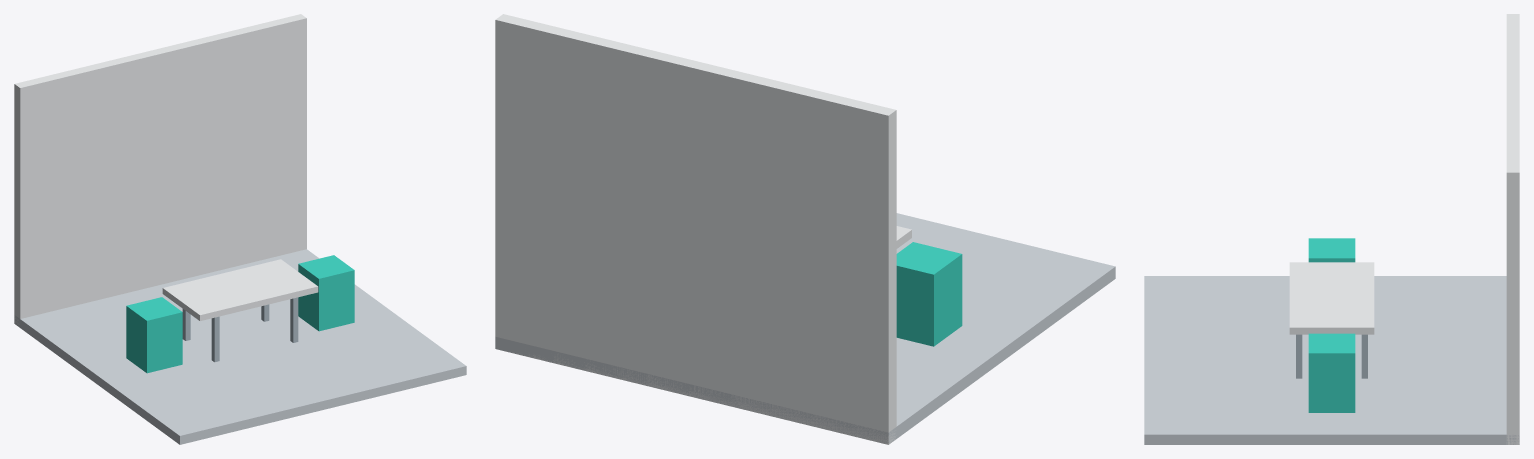
The picture shows the model from 3 angles, left to right: view 1: azimuth 30°, elevation 25°; view 2: azimuth 150°, elevation 25°; view 3: azimuth 270°, elevation 25°; orthographic projection. The views are drawn at different scales.
Visible parts, largest first — view 1: Exhibition Booth Concept; view 2: Exhibition Booth Concept; view 3: Exhibition Booth Concept.
Boxes of the visible parts, box(x1,y1,x2,y2) form: Exhibition Booth Concept: box(14, 14, 466, 444); Exhibition Booth Concept: box(495, 14, 1115, 444); Exhibition Booth Concept: box(1144, 14, 1519, 444).
Bounding box in the file's own units: 4 × 3.2 × 4.
